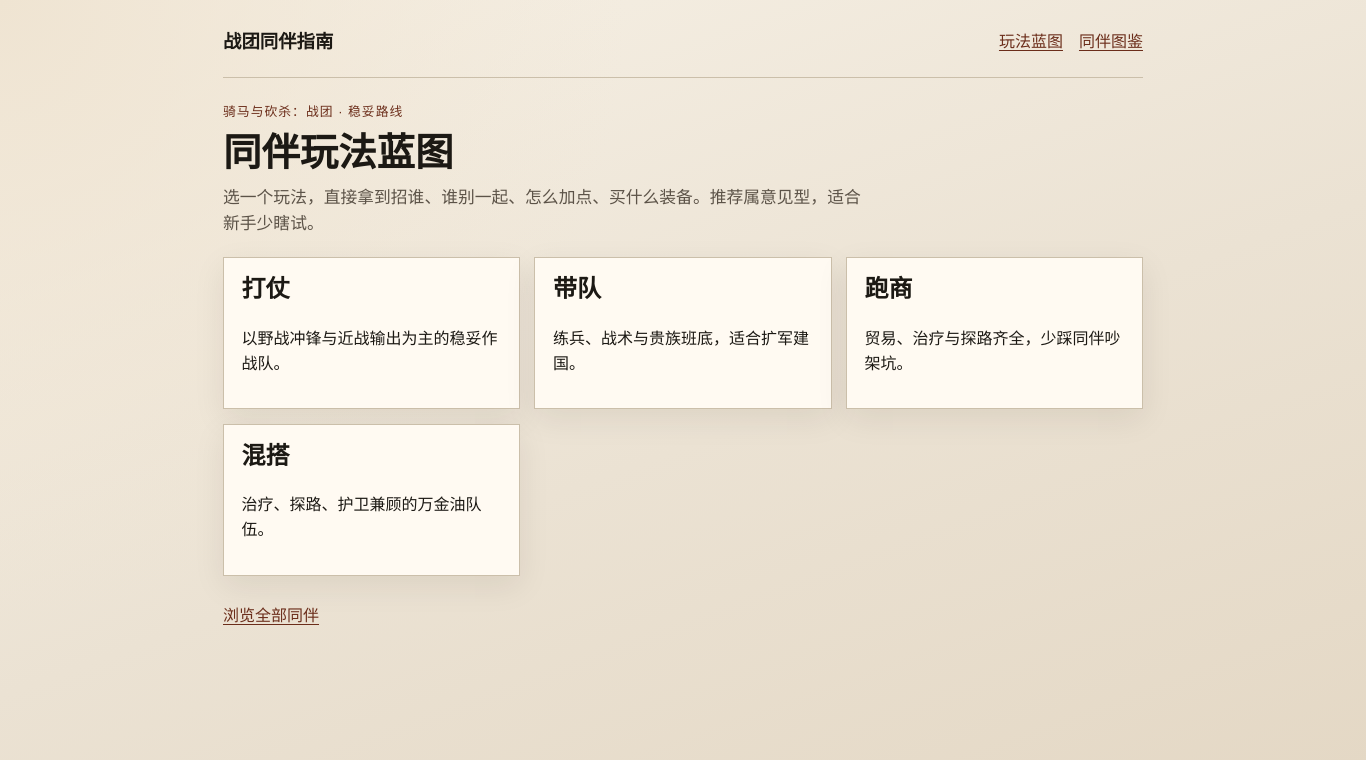
BlueprintPage › shows a different title for combat playstyle
Click the link "打仗 以野战冲锋与近战输出为主的稳妥作战队。" at (372, 333), box 223,257 -> 520,409
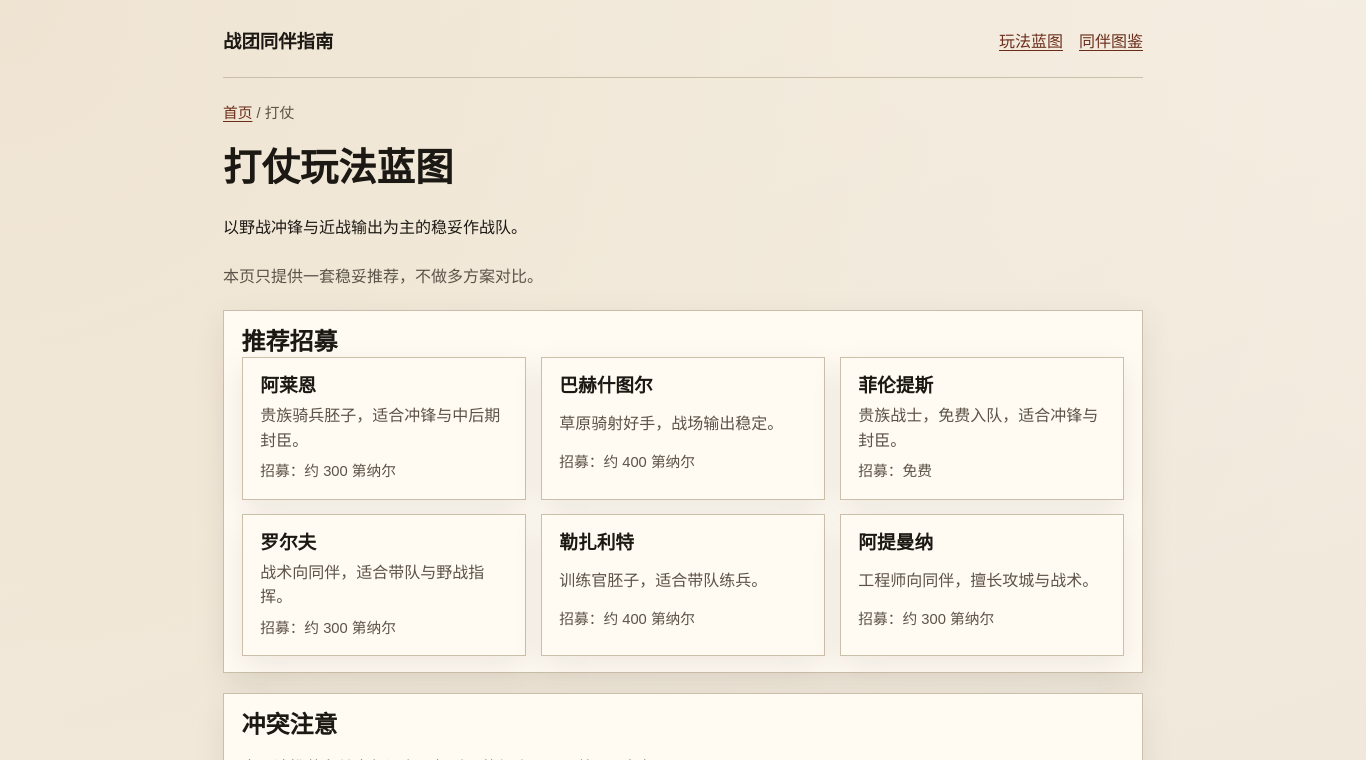
Check: the heading "打仗玩法蓝图" is shown, box 223,147 -> 453,189
Check: the heading "阿莱恩" is shown, box 260,375 -> 316,396
